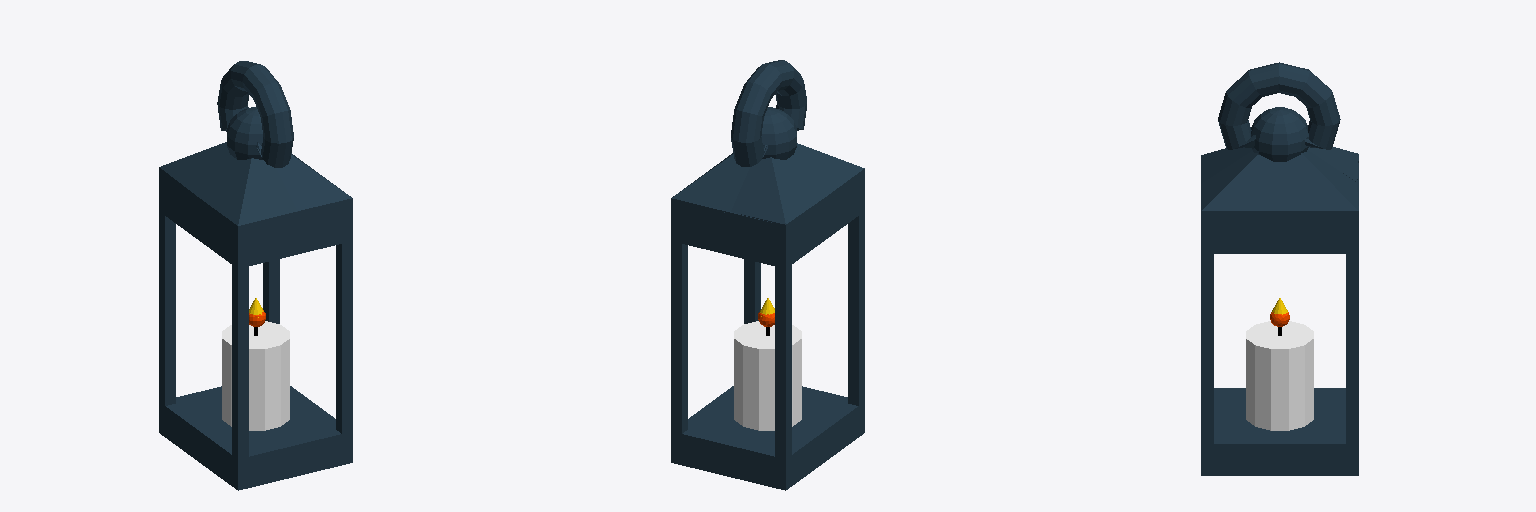
The picture shows the model from 3 angles: view 1: azimuth 30°, elevation 25°; view 2: azimuth 150°, elevation 25°; view 3: azimuth 270°, elevation 25°; orthographic projection.
Parts seen in each view (by area): view 1: group[number redacted], group[number redacted], group[number redacted], group[number redacted], group[number redacted], group[number redacted], group[number redacted], group[number redacted], group[number redacted], group[number redacted], group[number redacted], group[number redacted]; view 2: group[number redacted], group[number redacted], group[number redacted], group[number redacted], group[number redacted], group[number redacted], group[number redacted], group[number redacted], group[number redacted], group[number redacted], group[number redacted], group[number redacted]; view 3: group[number redacted], group[number redacted], group[number redacted], group[number redacted], group[number redacted], group[number redacted], group[number redacted], group[number redacted], group[number redacted], group[number redacted], group[number redacted].
Boxes of the visible parts, x1,y1,x2,y2 form: group[number redacted]: [159, 386, 352, 490]; group[number redacted]: [165, 185, 352, 268]; group[number redacted]: [222, 321, 289, 430]; group[number redacted]: [217, 61, 293, 167]; group[number redacted]: [198, 157, 296, 236]; group[number redacted]: [336, 210, 352, 433]; group[number redacted]: [232, 235, 248, 478]; group[number redacted]: [159, 180, 175, 405]; group[number redacted]: [159, 142, 232, 196]; group[number redacted]: [276, 154, 351, 211]; group[number redacted]: [227, 107, 262, 159]; group[number redacted]: [263, 259, 279, 323]; group[number redacted]: [671, 386, 864, 490]; group[number redacted]: [672, 183, 864, 268]; group[number redacted]: [734, 321, 801, 430]; group[number redacted]: [731, 60, 806, 166]; group[number redacted]: [731, 157, 823, 237]; group[number redacted]: [775, 234, 791, 478]; group[number redacted]: [671, 211, 687, 453]; group[number redacted]: [848, 180, 864, 425]; group[number redacted]: [671, 154, 749, 213]; group[number redacted]: [790, 143, 864, 197]; group[number redacted]: [761, 107, 796, 159]; group[number redacted]: [744, 259, 760, 323]; group[number redacted]: [1201, 388, 1358, 475]; group[number redacted]: [1246, 321, 1313, 430]; group[number redacted]: [1202, 163, 1358, 253]; group[number redacted]: [1218, 62, 1340, 149]; group[number redacted]: [1201, 151, 1284, 222]; group[number redacted]: [1282, 150, 1358, 210]; group[number redacted]: [1201, 223, 1213, 464]; group[number redacted]: [1346, 254, 1358, 464]; group[number redacted]: [1251, 107, 1308, 161]; group[number redacted]: [1201, 148, 1252, 183]; group[number redacted]: [1308, 147, 1358, 181].
Bounding box in the file's own units: 0.84 × 2.68 × 1.